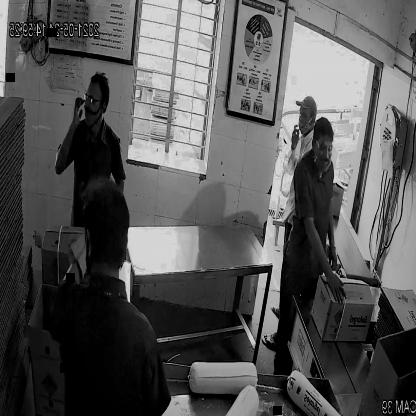goggles: (82, 90, 110, 110), (313, 138, 335, 157)
